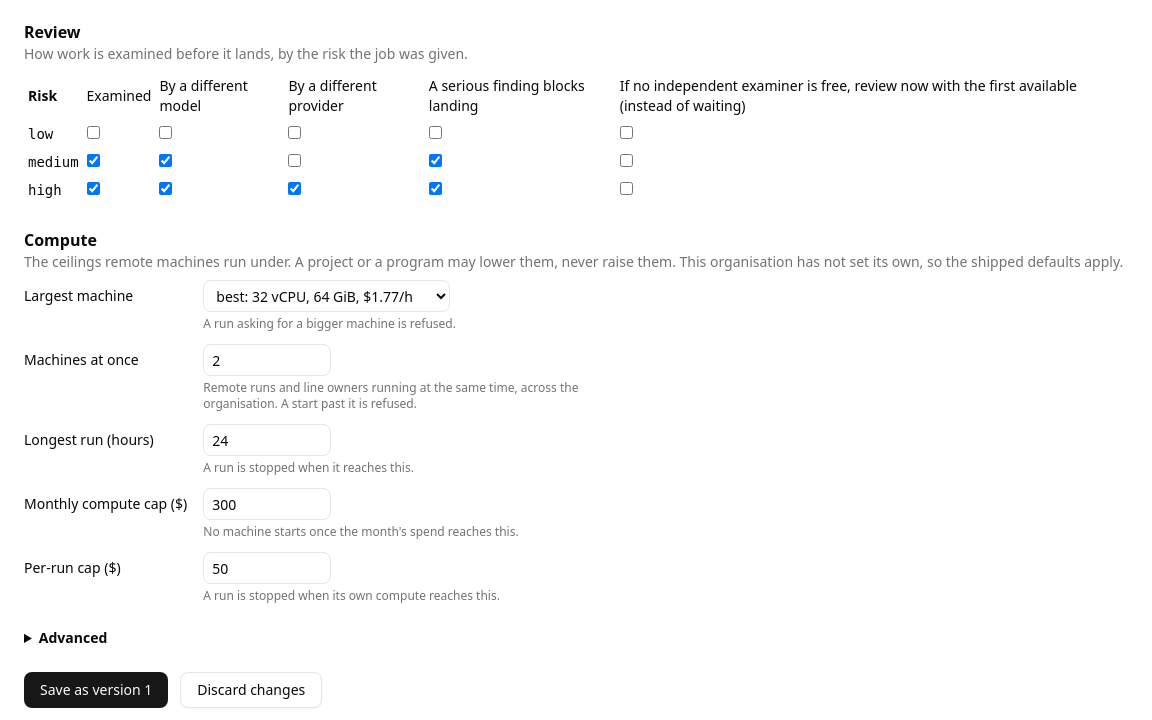
it: organisation settings › shows the compute ceilings, the shipped defaults until the org sets its own, and saves them
The image size is (1152, 720).
(page scrolled)
Expected: the text "the shipped defaults apply" is shown, [676,252,1123,271]
Replace the text in the number field labelled "Machines at once" with "4" at (267,360), box [203,344,331,376]
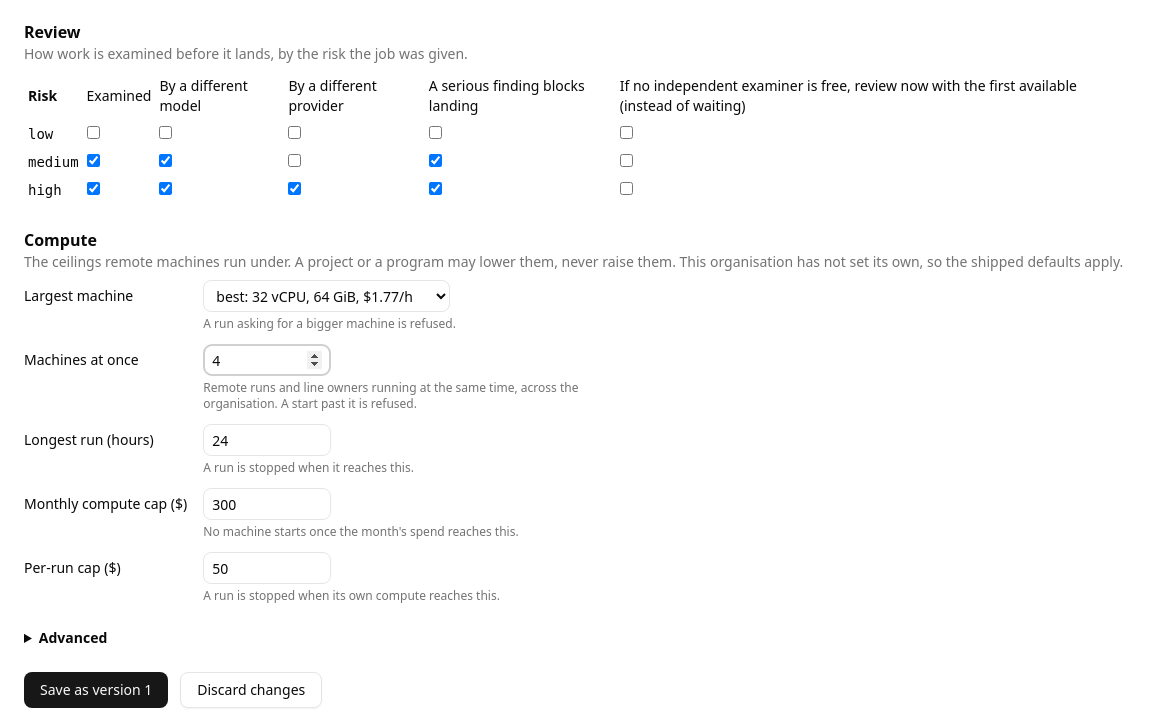
Select "better: 16 vCPU, 32 GiB, $0.89/h" in the dropdown labelled "Largest machine" at (327,296), box [203,280,450,312]
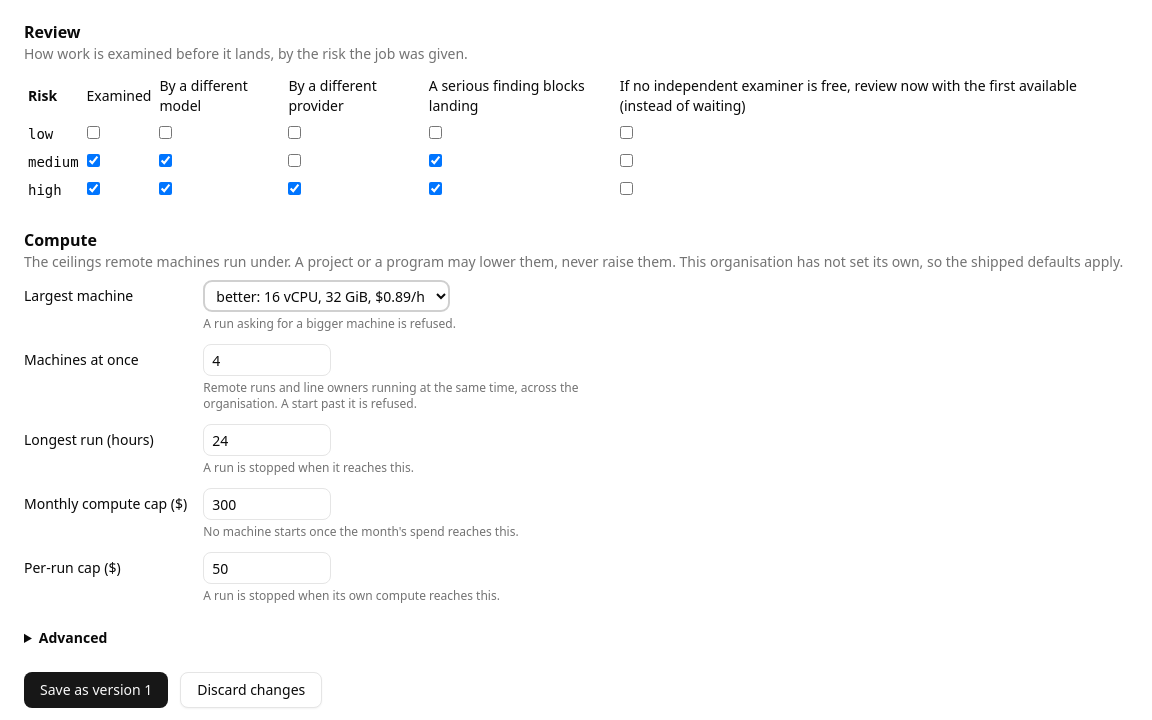
Click the button "Save as version 1" at (96,690), box [24,672,168,708]
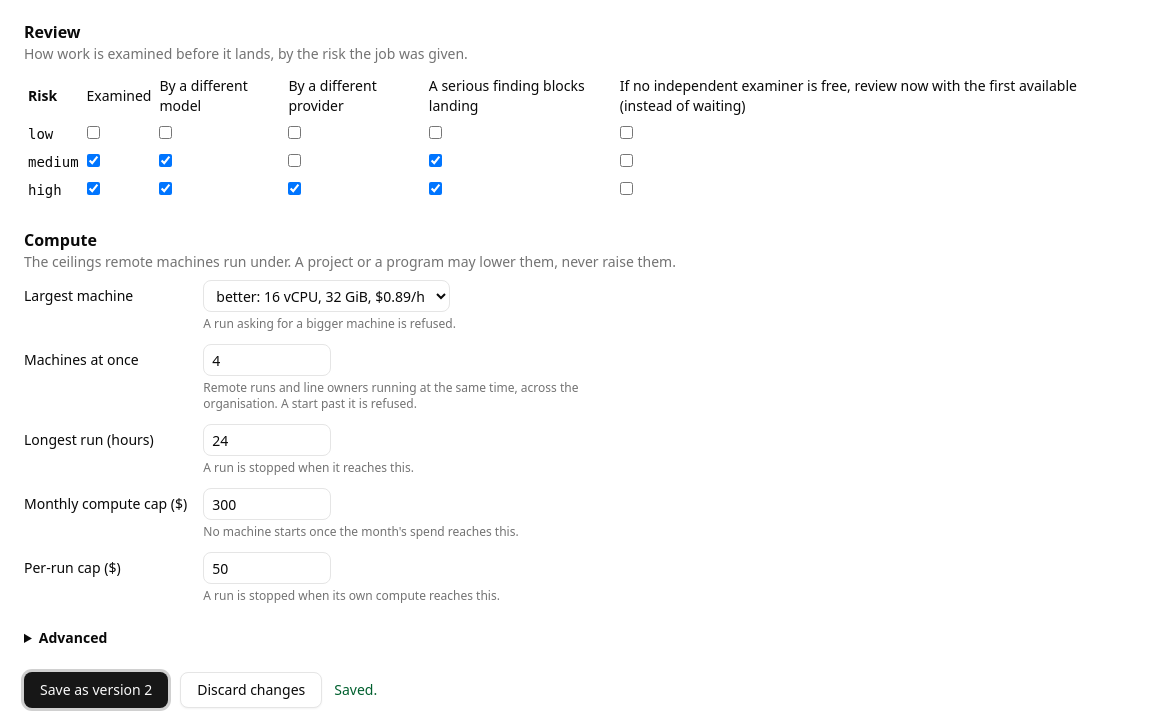
Result: the text "Saved." is shown at [334,680,377,700]
